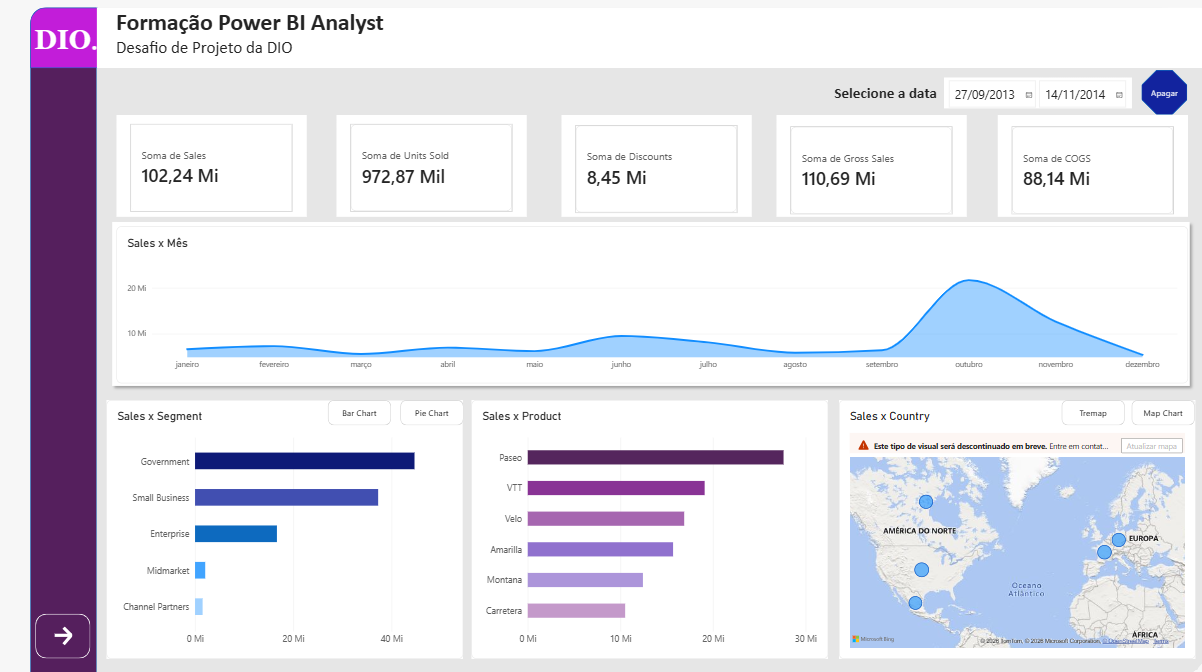

Layout of this report page (visuals, bound fields, positions):
{"tool":"powerbi","page":{"name":"Página 1","canvas":[1920,1080],"ordinal":0},"visuals":[{"type":"shape","box":[67,12.7,1853.1,1067.7],"z":0},{"type":"slicer","fields":{"Values":["financials.Date"]},"box":[1491.2,123.1,296.8,48.9],"z":0,"group":"g2"},{"type":"shape","box":[184.6,181,300.4,161.1],"z":0,"group":"g1"},{"type":"map","title":"Sales x Country","fields":{"Category":["financials.Country"],"Size":["Sum(financials.Sales)"]},"box":[1326.5,631.6,562.8,409],"z":0,"group":"g3"},{"type":"treemap","title":"Sales x Country","fields":{"Group":["financials.Country"],"Values":["Sum(financials.Sales)"]},"box":[1326.5,631.6,562.8,409],"z":250,"group":"g3"},{"type":"actionButton","title":"Botão-map","box":[1788,631.6,100,40],"z":500,"group":"g3"},{"type":"actionButton","title":"Botão-bar","box":[1031.5,631.6,100,40],"z":750},{"type":"shape","box":[48.9,12.7,105,1067.7],"z":1000},{"type":"textbox","box":[1308.4,132.1,182.8,39.8],"z":1000,"group":"g2"},{"type":"shape","box":[532.1,181,300.4,161.1],"z":1000,"group":"g1"},{"type":"clusteredBarChart","title":"Sales x Segment ","fields":{"Category":["financials.Segment"],"Y":["Sum(financials.Sales)"]},"box":[169.4,631.2,562.8,409],"z":1000,"group":"g4"},{"type":"donutChart","title":"Sales x Segment","fields":{"Category":["financials.Segment"],"Y":["Sum(financials.Sales)"]},"box":[169.4,631.2,562.8,409],"z":1500,"group":"g4"},{"type":"actionButton","title":"Botão-tremap","box":[1677.6,631.6,100,40],"z":1500,"group":"g3"},{"type":"shape","box":[48.9,12.7,106.8,95.9],"z":2000},{"type":"shape","title":"apagar","box":[1804.2,110.4,72.4,70.6],"z":2000,"group":"g2"},{"type":"shape","box":[886.7,181,300.4,161.1],"z":2000,"group":"g1"},{"type":"actionButton","title":"Botão-pei","box":[632.7,631.2,100,40],"z":2000,"group":"g4"},{"type":"textbox","box":[0,32.6,157.4,76],"z":3000},{"type":"actionButton","box":[1804.2,110.4,72.4,70.6],"z":3000,"group":"g2"},{"type":"shape","box":[1227,181,300.4,161.1],"z":3000,"group":"g1"},{"type":"actionButton","title":"Botão-bar","box":[518.7,631.2,100,40],"z":3000,"group":"g4"},{"type":"shape","box":[153.8,12.7,1766.2,95.9],"z":4000},{"type":"shape","box":[1576.2,181,300.4,161.1],"z":4000,"group":"g1"},{"type":"textbox","box":[153.8,12.7,624.3,95.9],"z":5000},{"type":"cardVisual","fields":{"Data":["Sum(financials.Units Sold)"]},"box":[553.8,195.5,257,139.3],"z":5000,"group":"g1"},{"type":"group","id":"g1","title":"Cartões","box":[184.6,181,1692,161.1],"z":6000},{"type":"cardVisual","fields":{"Data":["Sum(financials.Gross Sales)"]},"box":[1248.7,199.1,257,139.3],"z":6000,"group":"g1"},{"type":"cardVisual","fields":{"Data":["Sum(financials.Discounts)"]},"box":[908.5,197.3,257,139.3],"z":7000,"group":"g1"},{"type":"shape","box":[170.1,342,1719.2,276.9],"z":7000},{"type":"cardVisual","fields":{"Data":["Sum(financials.COGS)"]},"box":[1597.9,199.1,257,139.3],"z":8000,"group":"g1"},{"type":"shape","box":[170.1,631.6,562.8,409],"z":8000},{"type":"cardVisual","fields":{"Data":["Sum(financials.Sales)"]},"box":[207.1,195.5,257,139.3],"z":9000,"group":"g1"},{"type":"shape","box":[745.6,631.6,562.8,409],"z":9000},{"type":"shape","box":[1326.5,631.6,562.8,409],"z":10000},{"type":"areaChart","title":"Sales x Mês","fields":{"Category":["financials.Date.Variation.Hierarquia de datas.Mês"],"Y":["Sum(financials.Sales)"]},"box":[184.6,356.5,1692,247.9],"z":11000},{"type":"clusteredBarChart","title":"Sales x Product","fields":{"Category":["financials.Product"],"Y":["Sum(financials.Sales)"]},"box":[745.6,631.6,562.8,409],"z":12000},{"type":"group","id":"g2","title":"filtro por data","box":[1308.4,110.4,568.2,70.6],"z":13000},{"type":"group","id":"g3","title":"country","box":[1326.5,631.6,562.8,409],"z":15000},{"type":"group","id":"g4","title":"segment","box":[169.4,631.2,564.2,409.6],"z":16000},{"type":"actionButton","title":"Botão-seta","box":[57.9,970,86.9,70.6],"z":17000}]}

Visuals, with their boxes on the page's 1920x1080 design canvas (x1, y1, x2, y2). These are canvas units, not pixel positions in the 1202x672 screenshot, which may show the page scaled, cropped or inside an application window:
shape: x1=67, y1=13, x2=1920, y2=1080
slicer - financials.Date: x1=1491, y1=123, x2=1788, y2=172
shape: x1=185, y1=181, x2=485, y2=342
"Sales x Country" map: x1=1326, y1=632, x2=1889, y2=1041
"Sales x Country" treemap: x1=1326, y1=632, x2=1889, y2=1041
"Botão-map" actionButton: x1=1788, y1=632, x2=1888, y2=672
"Botão-bar" actionButton: x1=1032, y1=632, x2=1132, y2=672
shape: x1=49, y1=13, x2=154, y2=1080
textbox: x1=1308, y1=132, x2=1491, y2=172
shape: x1=532, y1=181, x2=832, y2=342
"Sales x Segment " clusteredBarChart: x1=169, y1=631, x2=732, y2=1040
"Sales x Segment" donutChart: x1=169, y1=631, x2=732, y2=1040
"Botão-tremap" actionButton: x1=1678, y1=632, x2=1778, y2=672
shape: x1=49, y1=13, x2=156, y2=109
"apagar" shape: x1=1804, y1=110, x2=1877, y2=181
shape: x1=887, y1=181, x2=1187, y2=342
"Botão-pei" actionButton: x1=633, y1=631, x2=733, y2=671
textbox: x1=0, y1=33, x2=157, y2=109
actionButton: x1=1804, y1=110, x2=1877, y2=181
shape: x1=1227, y1=181, x2=1527, y2=342
"Botão-bar" actionButton: x1=519, y1=631, x2=619, y2=671
shape: x1=154, y1=13, x2=1920, y2=109
shape: x1=1576, y1=181, x2=1877, y2=342
textbox: x1=154, y1=13, x2=778, y2=109
cardVisual - Sum(financials.Units Sold): x1=554, y1=196, x2=811, y2=335
"Cartões" group: x1=185, y1=181, x2=1877, y2=342
cardVisual - Sum(financials.Gross Sales): x1=1249, y1=199, x2=1506, y2=338
cardVisual - Sum(financials.Discounts): x1=908, y1=197, x2=1166, y2=337
shape: x1=170, y1=342, x2=1889, y2=619
cardVisual - Sum(financials.COGS): x1=1598, y1=199, x2=1855, y2=338
shape: x1=170, y1=632, x2=733, y2=1041
cardVisual - Sum(financials.Sales): x1=207, y1=196, x2=464, y2=335
shape: x1=746, y1=632, x2=1308, y2=1041
shape: x1=1326, y1=632, x2=1889, y2=1041
"Sales x Mês" areaChart: x1=185, y1=356, x2=1877, y2=604
"Sales x Product" clusteredBarChart: x1=746, y1=632, x2=1308, y2=1041
"filtro por data" group: x1=1308, y1=110, x2=1877, y2=181
"country" group: x1=1326, y1=632, x2=1889, y2=1041
"segment" group: x1=169, y1=631, x2=734, y2=1041
"Botão-seta" actionButton: x1=58, y1=970, x2=145, y2=1041
